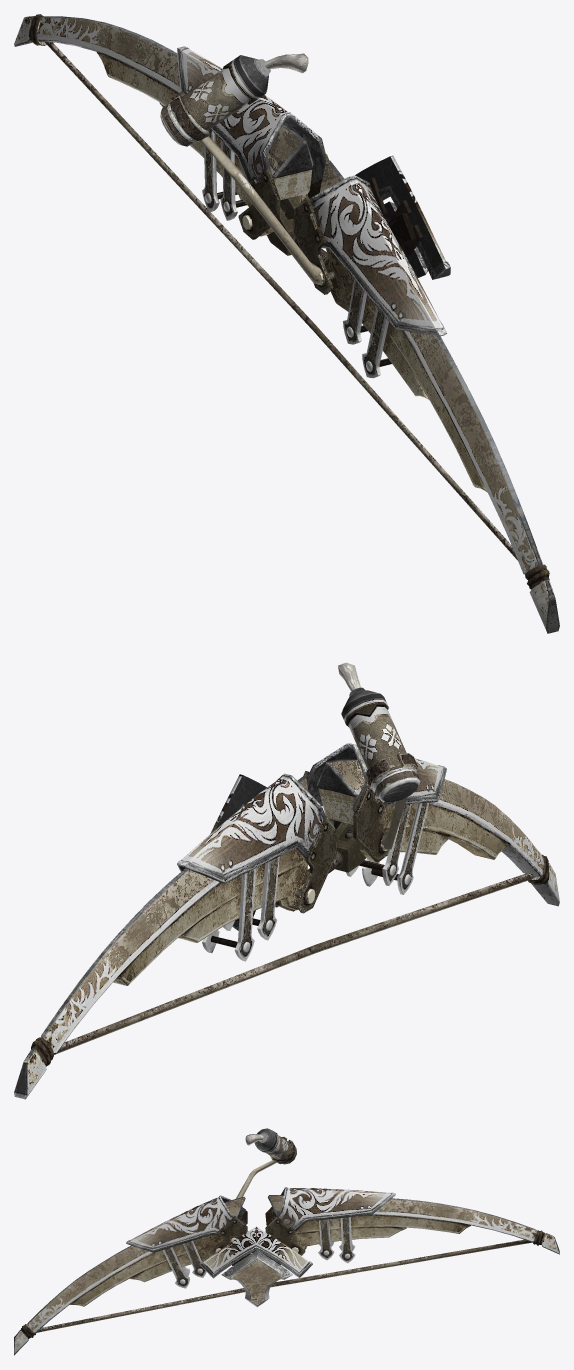
Rendered from bs_bow011.obj.
The picture shows the model from 3 angles, top to bottom: view 1: azimuth 30°, elevation 25°; view 2: azimuth 150°, elevation 25°; view 3: azimuth 270°, elevation 25°; orthographic projection. The views are drawn at different scales.
Visible parts, largest first — view 1: bs_bow011_000_LOD_1, bs_bow011_001_LOD_1, bs_bow011_004_LOD_1, bs_bow011_005_LOD_1, bs_bow011_003_LOD_1, bs_bow011_002_LOD_1; view 2: bs_bow011_001_LOD_1, bs_bow011_000_LOD_1, bs_bow011_004_LOD_1, bs_bow011_005_LOD_1, bs_bow011_002_LOD_1, bs_bow011_003_LOD_1; view 3: bs_bow011_001_LOD_1, bs_bow011_000_LOD_1, bs_bow011_003_LOD_1, bs_bow011_005_LOD_1, bs_bow011_004_LOD_1.
Boxes of the visible parts, x1,y1,x2,y2 form: bs_bow011_000_LOD_1: (293, 160, 559, 633); bs_bow011_001_LOD_1: (14, 16, 328, 239); bs_bow011_004_LOD_1: (160, 53, 321, 284); bs_bow011_005_LOD_1: (28, 14, 549, 589); bs_bow011_003_LOD_1: (355, 155, 450, 279); bs_bow011_002_LOD_1: (266, 197, 327, 268); bs_bow011_001_LOD_1: (14, 773, 337, 1099); bs_bow011_000_LOD_1: (303, 743, 559, 906); bs_bow011_004_LOD_1: (338, 662, 420, 849); bs_bow011_005_LOD_1: (31, 854, 549, 1066); bs_bow011_002_LOD_1: (275, 822, 366, 911); bs_bow011_003_LOD_1: (210, 774, 266, 930); bs_bow011_001_LOD_1: (265, 1187, 559, 1263); bs_bow011_000_LOD_1: (14, 1195, 247, 1355); bs_bow011_003_LOD_1: (199, 1226, 312, 1307); bs_bow011_005_LOD_1: (21, 1230, 544, 1338); bs_bow011_004_LOD_1: (236, 1128, 296, 1198).
Size of the model in its own units: 54.34 by 99.21 by 230.
